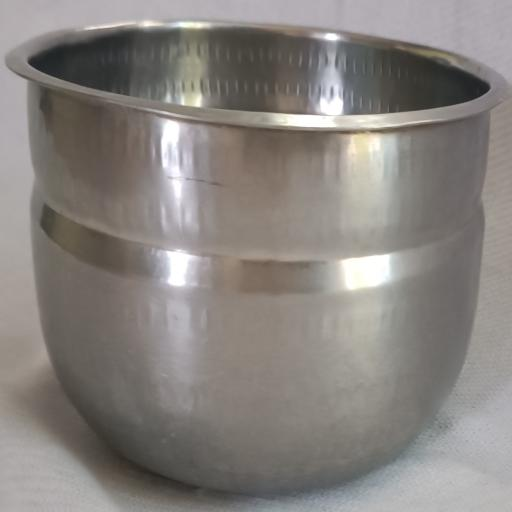vessel: (7, 23, 507, 493)
